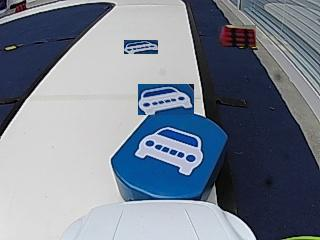safety: (135, 129, 206, 172)
